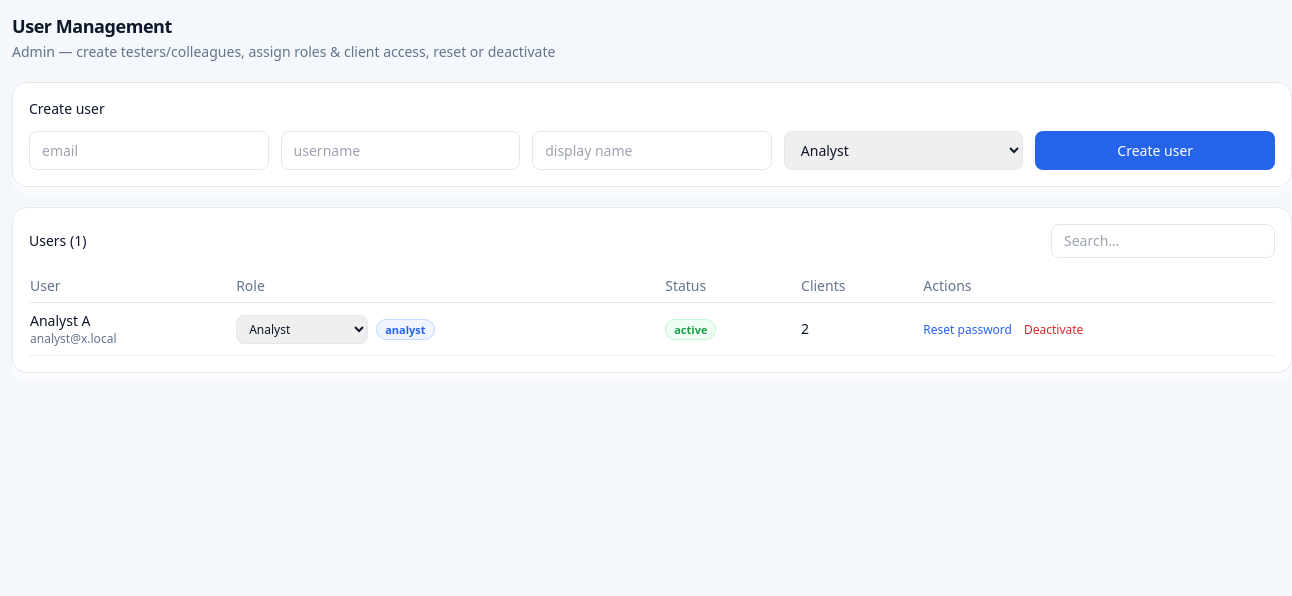
Test: Settings / Admin — RBAC-gated user management › reset password reveals the one-time temporary password from the API
Click the button with test id "au-reset". click: (968, 330)
box: [923,322,1012,338]
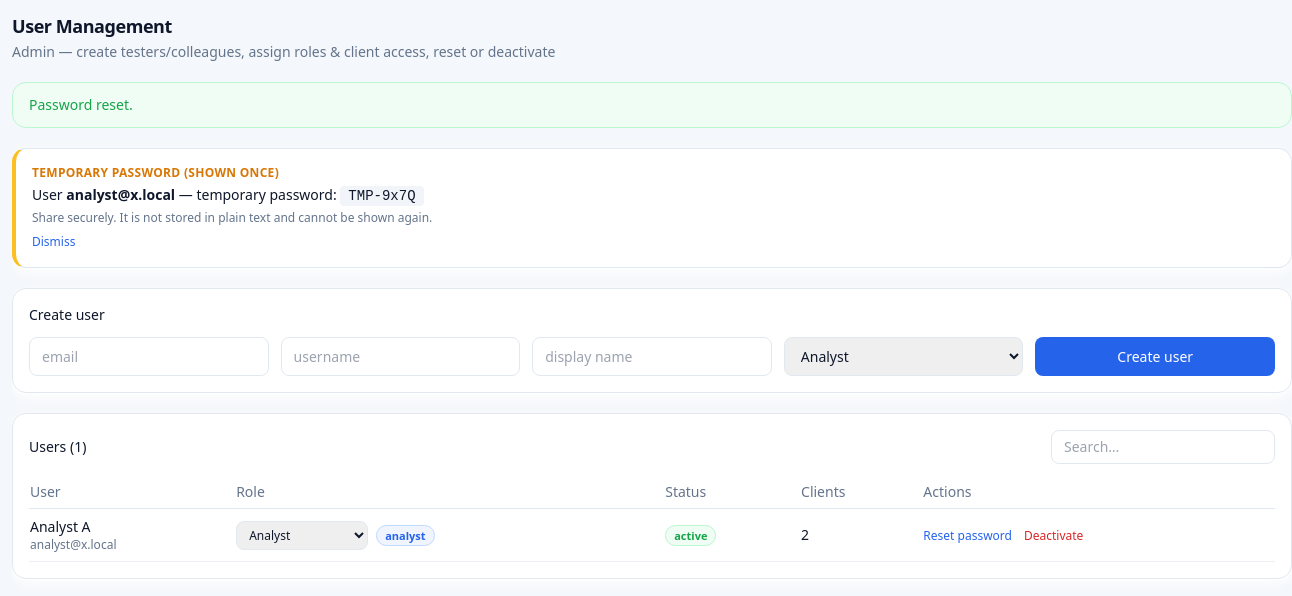
Result: the element with test id "au-temp-password" shows "TMP-9x7Q" at [348,188,416,204]
